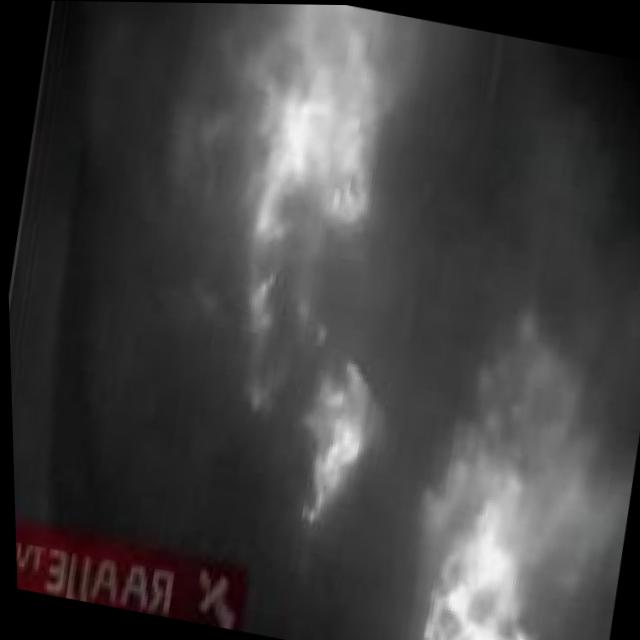fire: (119, 1, 464, 552), (359, 291, 640, 640)
